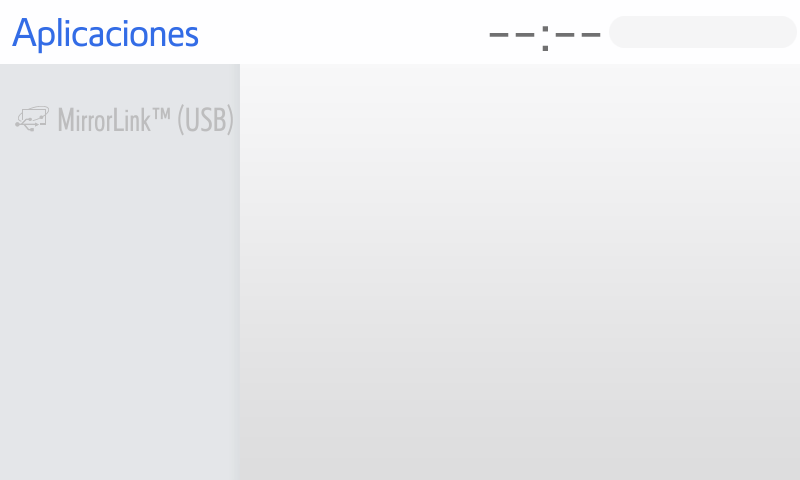untouchPart: (472, 8, 797, 53), (12, 93, 234, 139), (15, 16, 221, 56)
